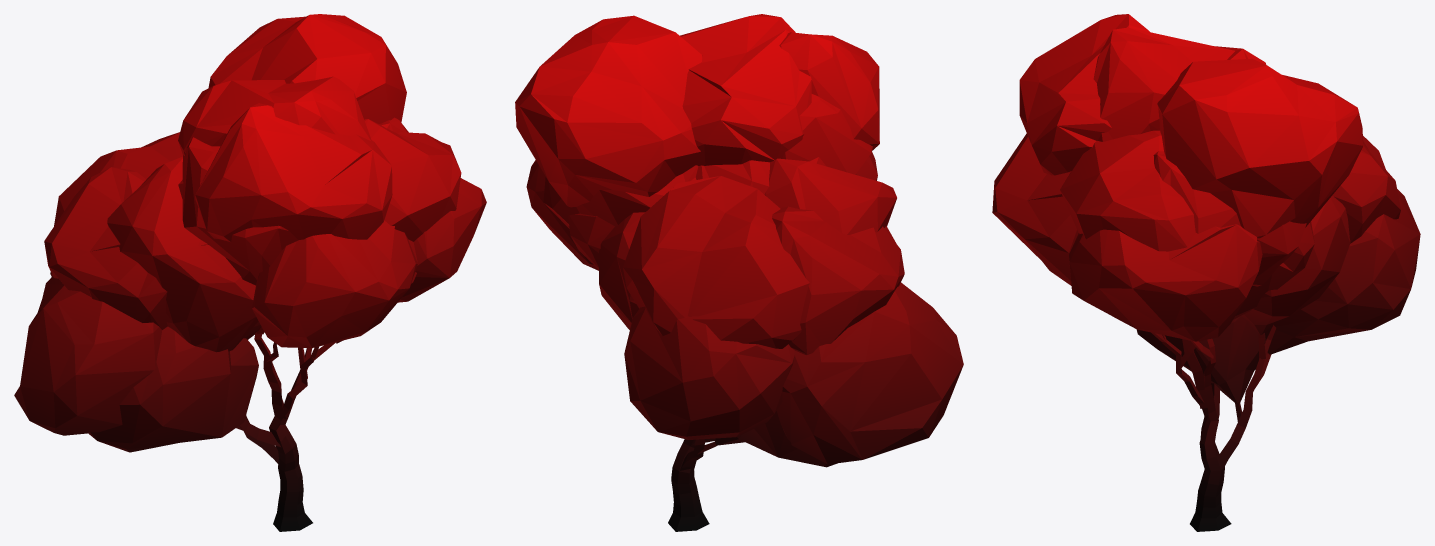
File: TreeMaple06.fbx
The picture shows the model from 3 angles, left to right: view 1: azimuth 30°, elevation 25°; view 2: azimuth 150°, elevation 25°; view 3: azimuth 270°, elevation 25°; orthographic projection. The views are drawn at different scales.
Visible parts, largest first — view 1: TreeMaple06_LOD0; view 2: TreeMaple06_LOD0; view 3: TreeMaple06_LOD0.
Boxes of the visible parts, x1,y1,x2,y2 form: TreeMaple06_LOD0: (14, 14, 486, 531); TreeMaple06_LOD0: (515, 14, 963, 531); TreeMaple06_LOD0: (992, 14, 1420, 531).
Size of what is drawn, in the model's own units: 637 by 692 by 556.
